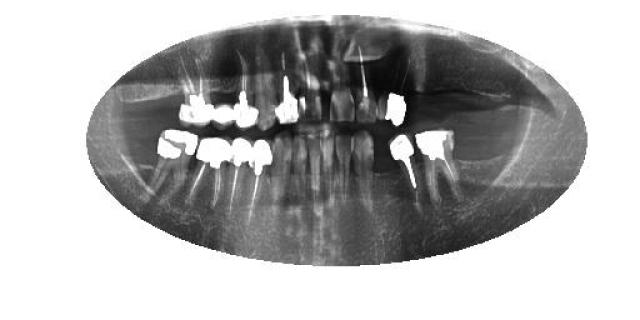Fillings: (149, 128, 199, 202), (212, 101, 234, 131)
Implant: (415, 128, 465, 208), (185, 134, 231, 208), (176, 51, 214, 124), (224, 134, 254, 218), (378, 54, 412, 124), (388, 130, 420, 195), (248, 134, 272, 216), (234, 51, 258, 130), (275, 53, 299, 125)
